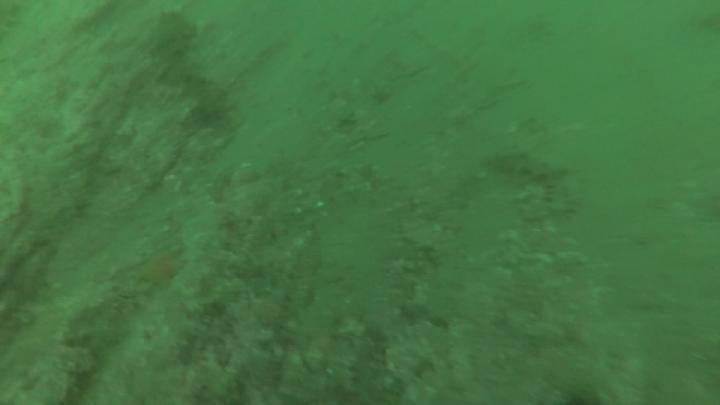holothurian: (492, 148, 578, 214)
starfish: (139, 249, 187, 287)
